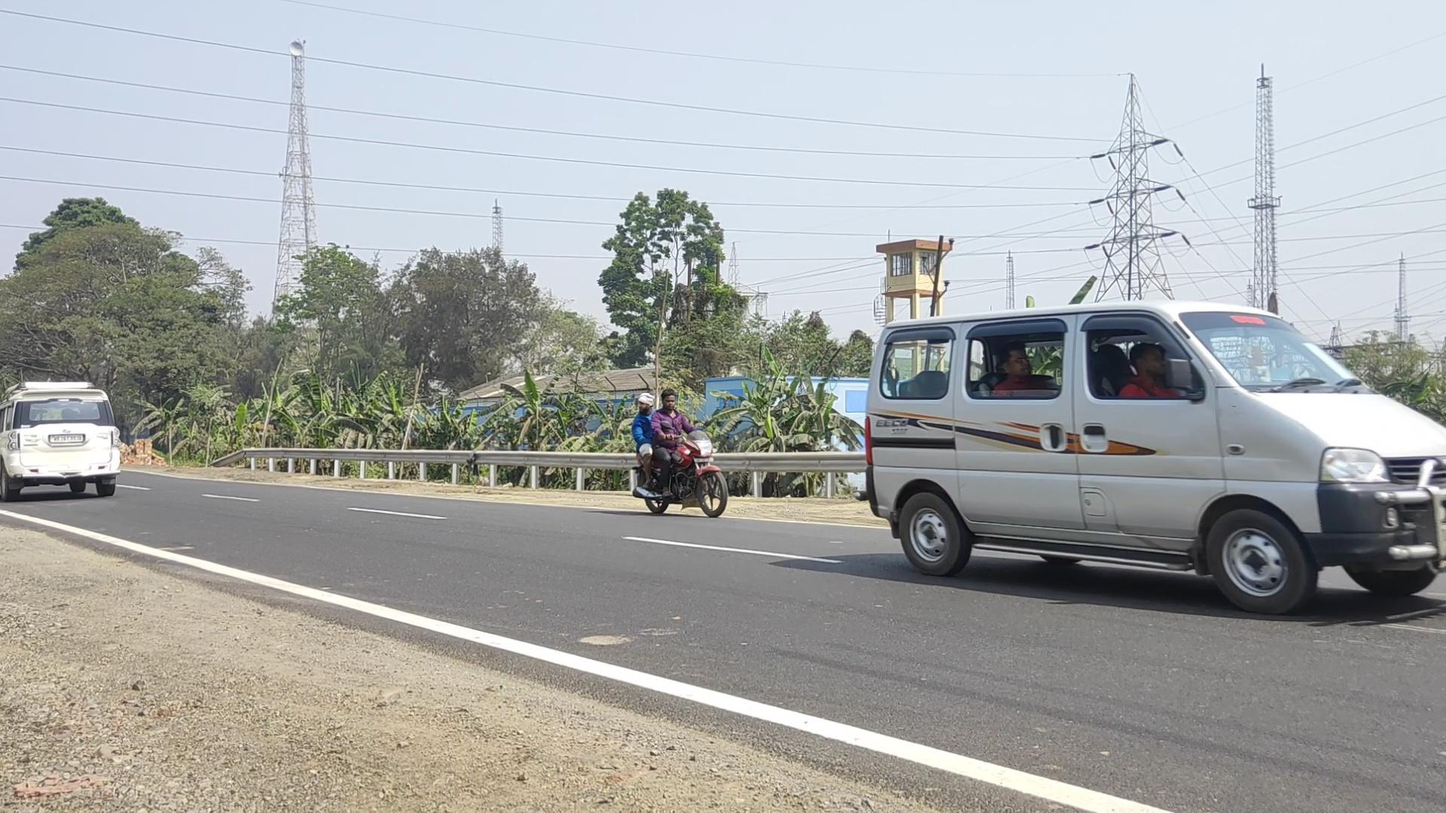bike: (631, 388, 728, 518)
car: (1, 381, 120, 502)
van: (856, 300, 1446, 616)
